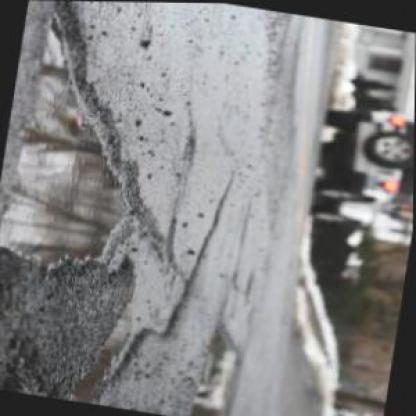pothole: (0, 0, 173, 287)
